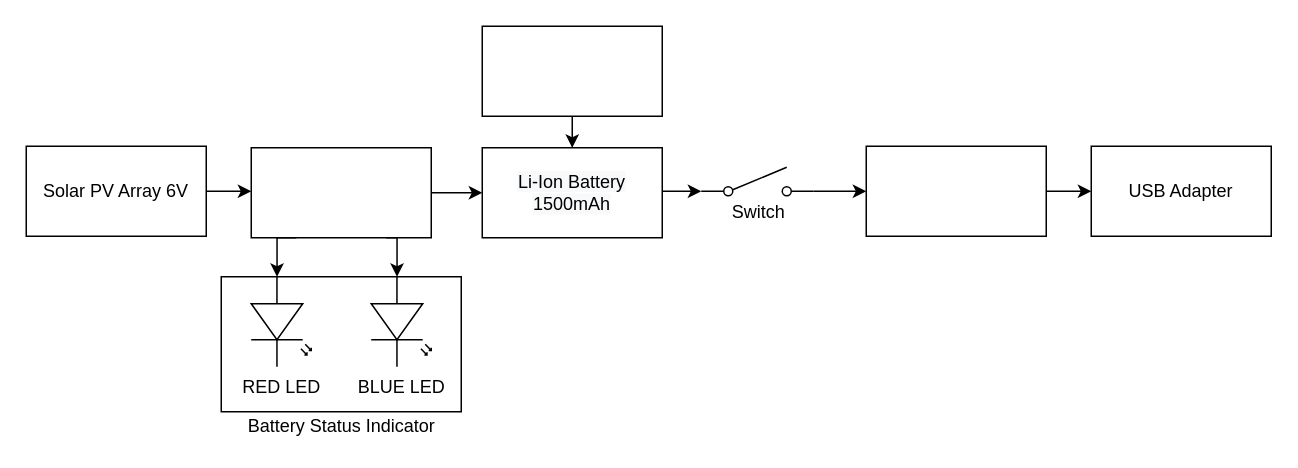
This 1298x468 diagram has some shape labels left out. The shapes that lost their labels are listed below. From the top down, each one's centre as x and y in pixels, then its label:
the point at 571,70: Battery Protection IC
the point at 340,192: Li-Ion Battery Charging Controller
the point at 955,190: Boost Converter 5V
